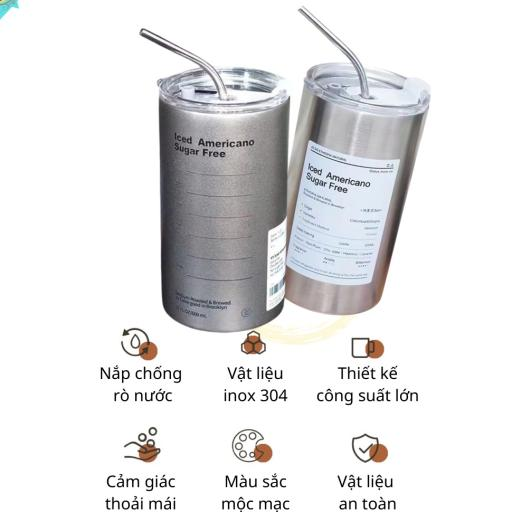cup: (286, 63, 429, 314), (158, 64, 289, 331)
